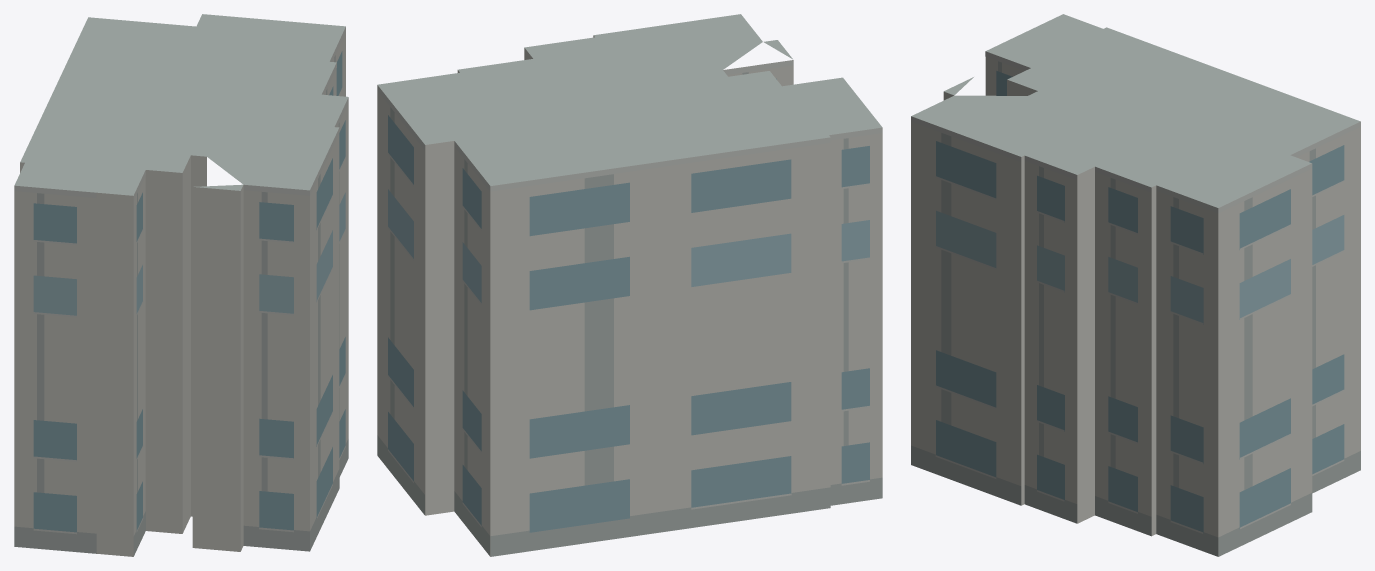
File: survey-upis-32796216.glb
The picture shows the model from 3 angles, left to right: view 1: azimuth 30°, elevation 25°; view 2: azimuth 150°, elevation 25°; view 3: azimuth 270°, elevation 25°; orthographic projection. The views are drawn at different scales.
Visible parts, largest first — view 1: survey-upis-32796216.tmp; view 2: survey-upis-32796216.tmp; view 3: survey-upis-32796216.tmp.
Part boxes in pixels (<box>): survey-upis-32796216.tmp: <box>14,14,348,556</box>; survey-upis-32796216.tmp: <box>377,14,882,556</box>; survey-upis-32796216.tmp: <box>911,14,1360,556</box>.
Size of the model in its own units: 18.99 by 15.9 by 18.59.
